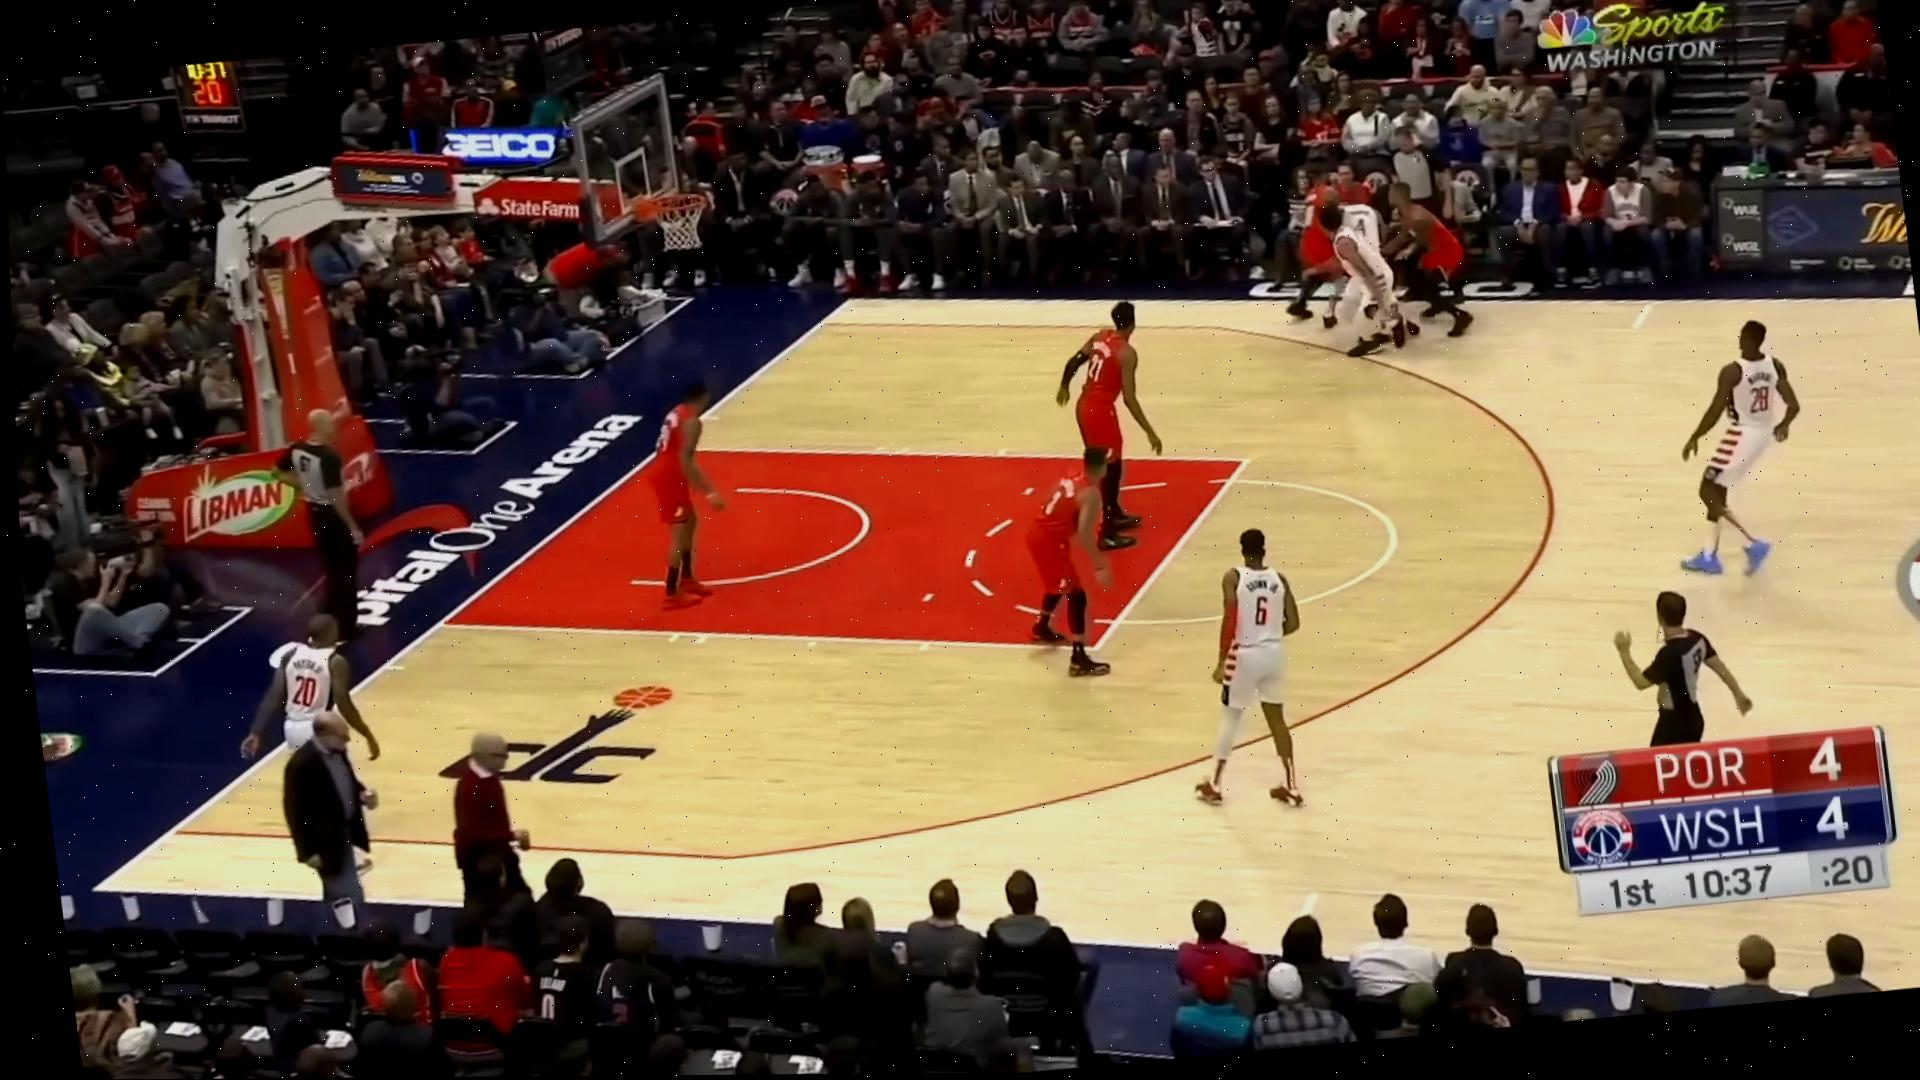foul: (1274, 164, 1493, 364)
